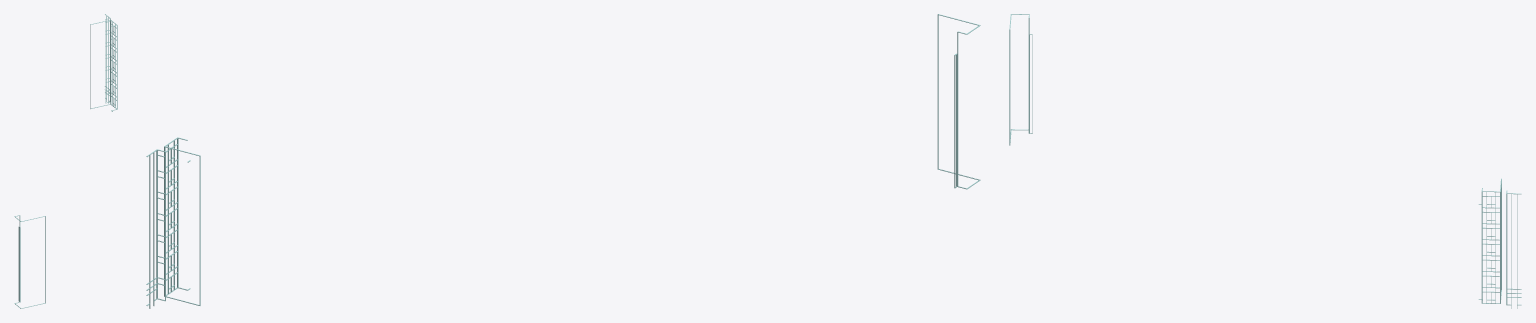
Rendered from 20160125Autodesk_Hospital_Parking Garage_2015_Exist_Garage_-_Ground_Level_IfcMember.dae.
The picture shows the model from 3 angles, left to right: view 1: azimuth 30°, elevation 25°; view 2: azimuth 150°, elevation 25°; view 3: azimuth 270°, elevation 25°; orthographic projection. The views are drawn at different scales.
Visible parts, largest first — view 1: 3yftiXRYjCxvPDDKeWxrIf, 0xlz8LznrCqOt$4uSObrYe, 3yftiXRYjCxvPDDKeWxrTh, 3yftiXRYjCxvPDDKeWxrkA; view 2: no part large enough to name; view 3: no part large enough to name.
Part boxes in pixels (left/top/right/bottom): 3yftiXRYjCxvPDDKeWxrIf: left=19, top=215, right=20, bottom=302; 0xlz8LznrCqOt$4uSObrYe: left=110, top=20, right=111, bottom=104; 3yftiXRYjCxvPDDKeWxrTh: left=18, top=227, right=19, bottom=301; 3yftiXRYjCxvPDDKeWxrkA: left=45, top=216, right=45, bottom=302.
Bounding box in the file's own units: 73.39 × 88.61 × 22.1.
